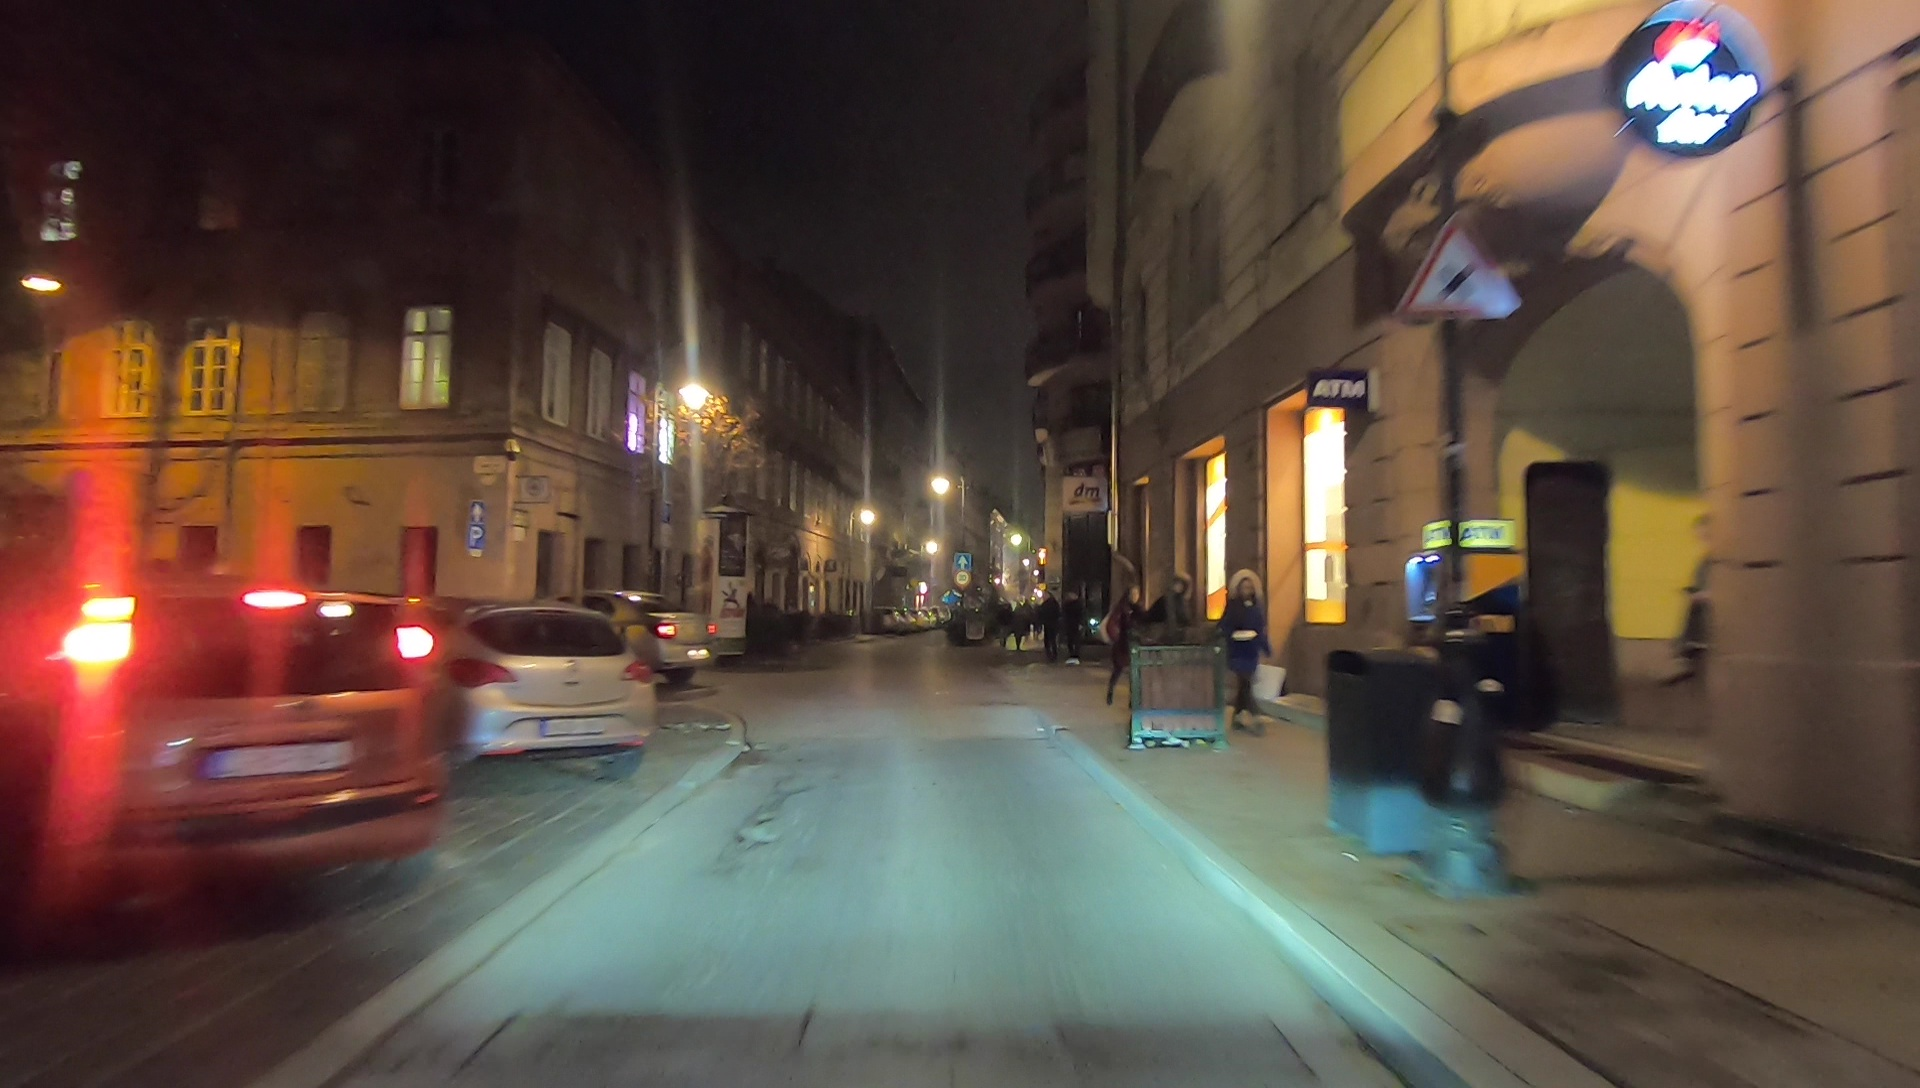person: (1225, 571, 1278, 732), (1108, 586, 1149, 706), (1160, 574, 1193, 686)
